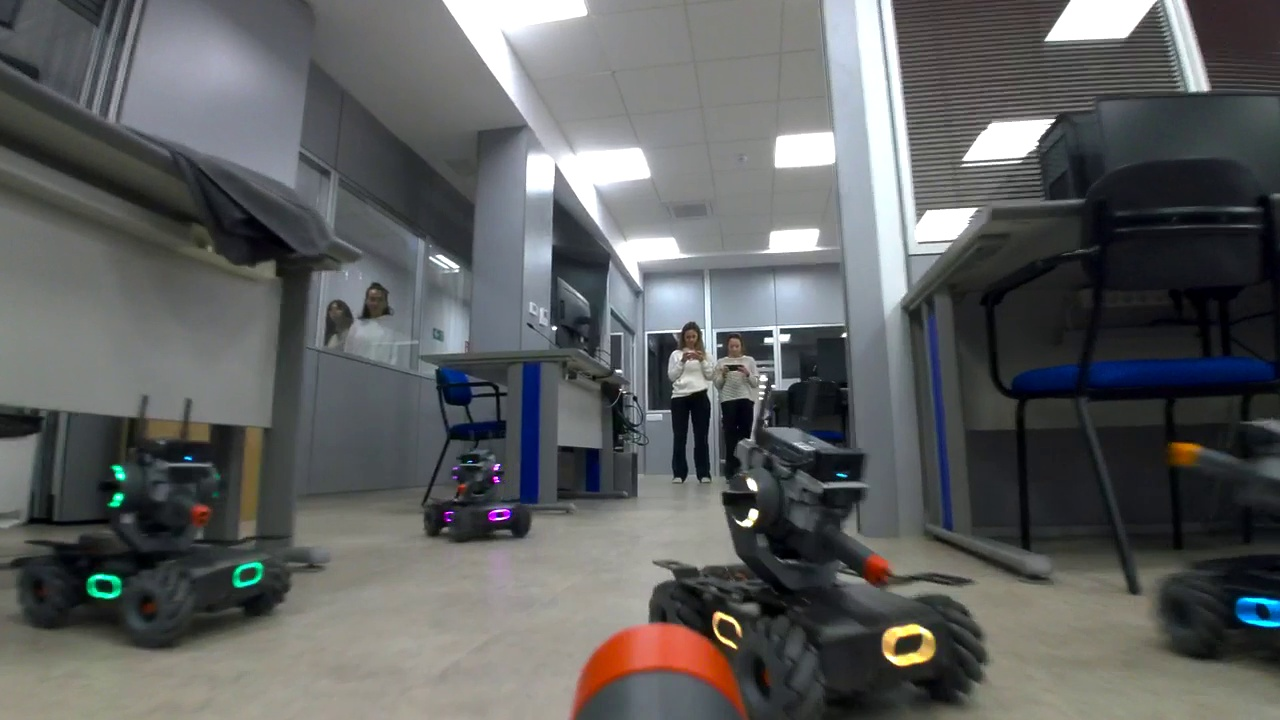robot: (649, 425, 987, 715), (11, 437, 288, 651), (1153, 413, 1280, 659), (420, 450, 528, 546)
